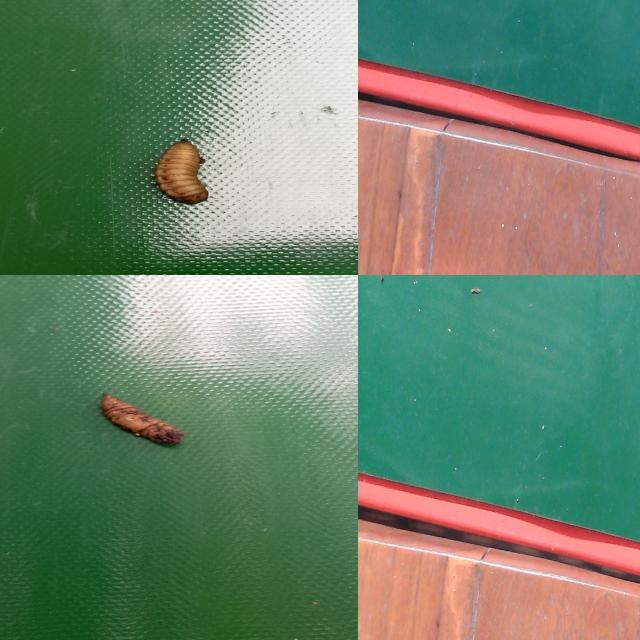Maggot: (99, 394, 186, 449), (153, 141, 208, 207)
